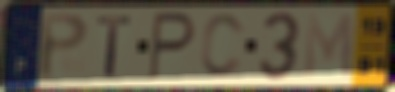3: (256, 10, 304, 82)
C: (198, 11, 248, 82)
M: (302, 11, 356, 81)
P: (145, 10, 198, 84), (37, 11, 91, 83)
T: (95, 14, 134, 80)
